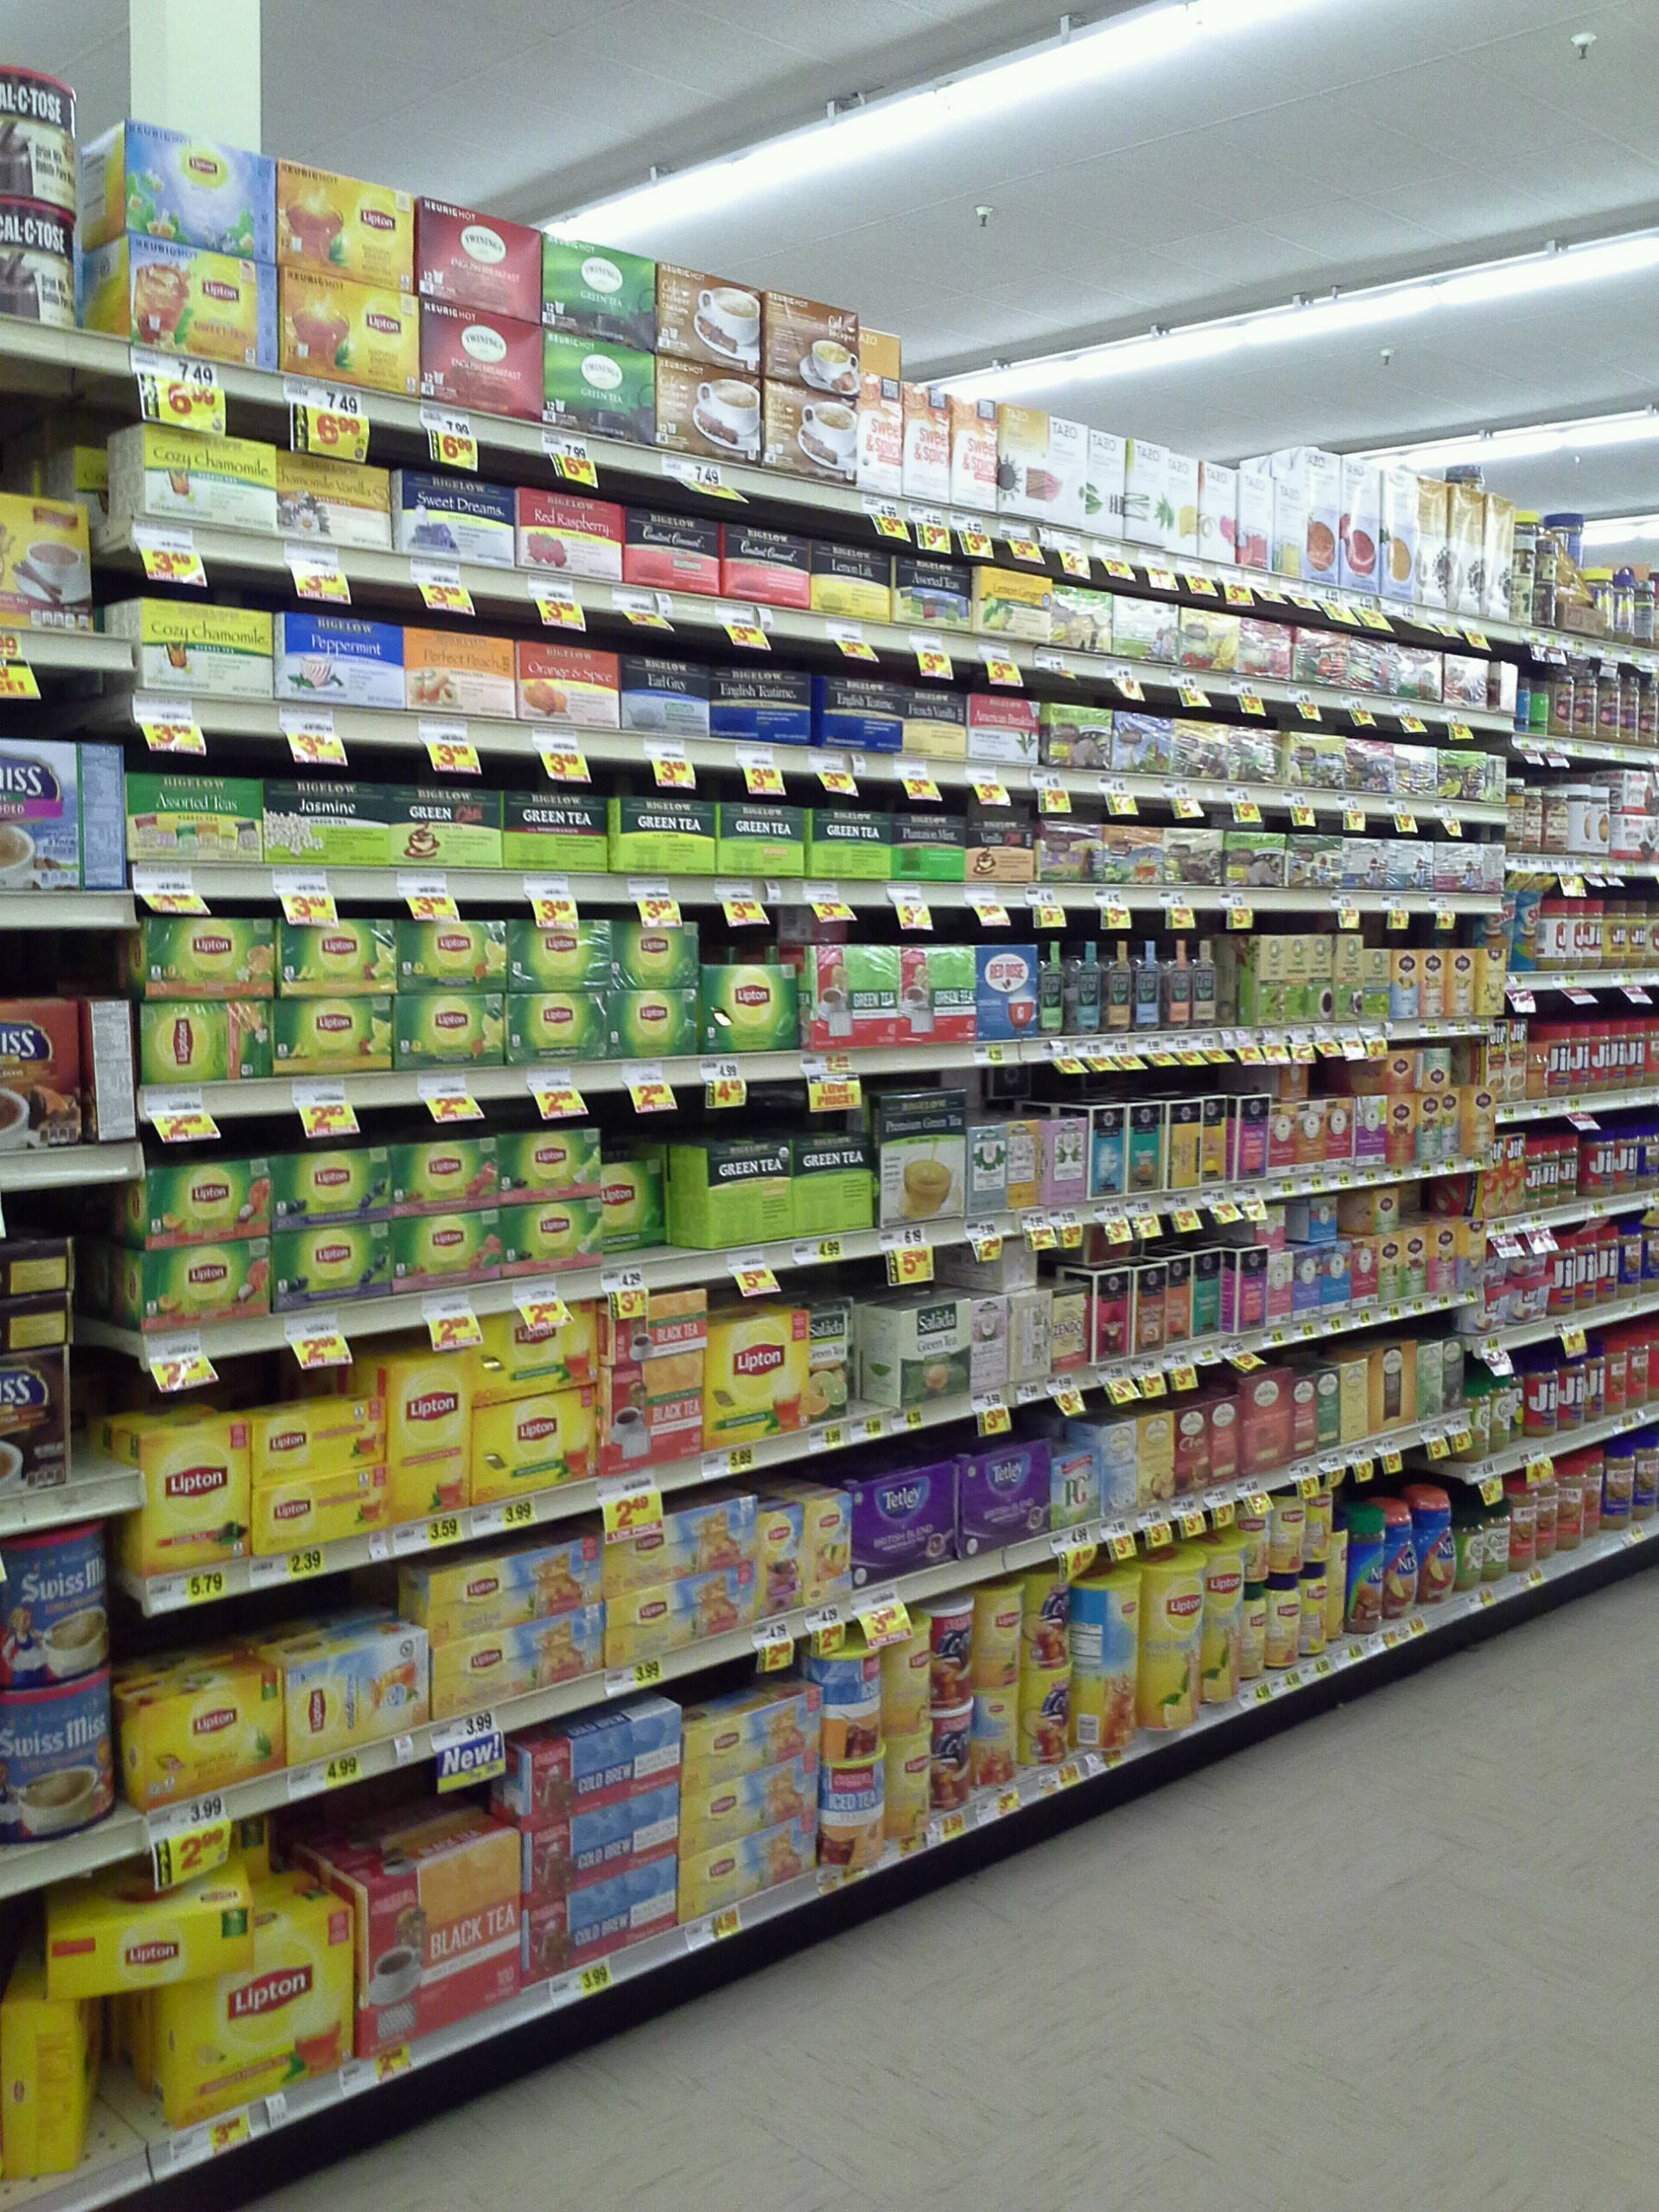product: (364, 1871, 519, 2017), (173, 1986, 350, 2094), (0, 740, 120, 890), (0, 1684, 106, 1836), (129, 125, 275, 232), (288, 1651, 422, 1764), (525, 1785, 680, 1879), (125, 254, 277, 348), (281, 162, 415, 268), (132, 1428, 242, 1557), (0, 1531, 108, 1662), (0, 1998, 73, 2184), (40, 1921, 260, 1982), (132, 1681, 282, 1770), (138, 423, 267, 524), (282, 284, 422, 374), (429, 1613, 605, 1683), (1140, 1548, 1204, 1738), (472, 1409, 591, 1512), (544, 233, 662, 336), (392, 1353, 465, 1515), (129, 773, 260, 864), (141, 916, 275, 1003), (141, 606, 272, 695), (396, 463, 511, 563), (422, 195, 540, 286), (714, 1320, 810, 1428), (429, 307, 540, 399), (406, 625, 514, 719), (606, 1562, 758, 1629), (662, 263, 760, 366), (960, 1442, 1046, 1559), (389, 780, 498, 871), (270, 782, 387, 866), (471, 1315, 594, 1393), (622, 496, 721, 590), (889, 1096, 958, 1228), (141, 1163, 270, 1235), (1086, 1576, 1138, 1749), (146, 1007, 267, 1082), (805, 944, 894, 1045), (284, 627, 401, 704), (394, 995, 511, 1071), (418, 1555, 608, 1602), (540, 359, 662, 432), (145, 1244, 272, 1312), (701, 1143, 793, 1235), (666, 373, 760, 463), (281, 921, 390, 998), (702, 968, 798, 1055), (610, 798, 714, 876), (856, 1479, 957, 1559), (532, 1897, 676, 1952), (274, 1240, 385, 1312), (392, 920, 504, 991), (254, 1486, 385, 1545), (256, 1420, 385, 1479), (795, 1139, 877, 1231), (769, 298, 863, 378), (603, 1366, 701, 1442), (277, 1155, 392, 1219), (277, 467, 392, 531), (687, 1836, 816, 1893), (899, 948, 972, 1049), (504, 1127, 599, 1204), (1284, 439, 1333, 589), (769, 395, 857, 477), (507, 801, 608, 873), (89, 995, 136, 1148), (507, 921, 610, 991), (887, 1303, 960, 1400), (812, 536, 890, 627), (504, 1211, 606, 1278), (528, 1735, 680, 1780), (279, 1010, 385, 1075), (525, 650, 624, 718), (396, 1136, 495, 1204), (514, 498, 615, 564), (389, 1224, 500, 1284), (615, 1515, 755, 1561), (687, 1717, 821, 1764), (819, 676, 899, 754), (950, 388, 999, 516), (518, 998, 613, 1062), (629, 651, 708, 730), (809, 808, 890, 883), (613, 991, 701, 1061), (978, 944, 1039, 1042), (1208, 1533, 1243, 1702), (1377, 456, 1415, 606), (608, 920, 697, 984), (718, 810, 803, 876), (967, 693, 1046, 763), (835, 1637, 885, 1745), (978, 571, 1054, 641), (714, 674, 810, 730), (1338, 456, 1377, 596), (687, 1785, 819, 1825), (612, 1167, 678, 1245), (1000, 413, 1046, 524), (727, 535, 807, 596), (835, 1761, 884, 1858), (603, 1298, 708, 1343), (1126, 430, 1166, 547), (1481, 495, 1516, 629), (978, 1583, 1026, 1679), (967, 1301, 1014, 1400), (762, 1501, 805, 1608), (892, 1620, 934, 1730), (896, 815, 964, 880), (892, 573, 976, 625), (985, 1681, 1025, 1789), (1352, 1508, 1387, 1632), (817, 1306, 852, 1428), (1047, 409, 1082, 531), (1248, 1371, 1290, 1472), (1032, 822, 1098, 885), (906, 392, 945, 500), (1028, 1674, 1072, 1768), (870, 369, 903, 493), (1420, 469, 1448, 613), (1452, 467, 1478, 618), (1122, 1103, 1166, 1193), (1427, 1491, 1462, 1604), (1065, 934, 1101, 1040), (1047, 705, 1117, 761), (1117, 599, 1176, 664), (812, 1501, 850, 1601), (1089, 432, 1126, 535), (1391, 1498, 1422, 1616), (1373, 1346, 1419, 1426), (903, 697, 965, 754), (1295, 625, 1349, 691), (1105, 932, 1138, 1038), (1237, 469, 1270, 575), (1047, 1116, 1086, 1207), (1119, 707, 1169, 775), (967, 1125, 1007, 1211), (1039, 1569, 1073, 1667), (964, 827, 1028, 880), (1431, 848, 1502, 895), (1051, 1447, 1098, 1519), (1244, 615, 1295, 681), (1058, 1282, 1094, 1372), (899, 1738, 936, 1829), (1164, 826, 1220, 885), (1169, 1096, 1202, 1195), (1236, 1092, 1270, 1186), (1237, 723, 1284, 792), (1208, 456, 1236, 573), (1227, 1249, 1265, 1332), (1291, 733, 1351, 787), (1061, 585, 1114, 646), (1225, 834, 1286, 887), (1136, 1414, 1173, 1501), (945, 1606, 974, 1712), (1169, 723, 1230, 773), (1101, 833, 1162, 883), (1103, 1418, 1134, 1515), (1136, 930, 1166, 1031), (1169, 455, 1199, 554), (1183, 617, 1239, 669), (1288, 831, 1340, 887), (1011, 1118, 1042, 1211), (950, 1714, 978, 1817), (1272, 1581, 1302, 1677), (1018, 1291, 1051, 1376), (1093, 1106, 1121, 1207), (1335, 934, 1364, 1028), (1291, 1369, 1323, 1456), (1288, 930, 1316, 1028), (1391, 948, 1427, 1021), (1107, 1270, 1134, 1366), (1039, 934, 1063, 1042), (1166, 1256, 1194, 1350), (1255, 934, 1283, 1026), (1206, 1092, 1232, 1188), (1194, 1251, 1223, 1332), (1215, 1397, 1244, 1479), (1352, 643, 1399, 693), (1434, 752, 1486, 798), (1136, 1264, 1162, 1352), (1403, 646, 1441, 705), (1356, 1097, 1389, 1163), (1387, 1096, 1419, 1165), (1394, 744, 1434, 798), (1445, 664, 1493, 707), (1345, 845, 1394, 888), (1089, 1228, 1147, 1264), (1169, 939, 1192, 1031), (1194, 941, 1216, 1031), (1316, 930, 1337, 1028), (1453, 944, 1481, 1017), (1279, 1489, 1303, 1573), (1180, 1406, 1202, 1494), (1460, 1224, 1486, 1301), (1366, 1186, 1405, 1237), (1347, 1355, 1370, 1440), (1298, 1251, 1323, 1329), (997, 1237, 1039, 1282), (1420, 1338, 1443, 1421), (1302, 1101, 1330, 1167), (1309, 1562, 1328, 1658), (1352, 747, 1394, 791), (1359, 1242, 1384, 1315), (1248, 1587, 1267, 1679), (1471, 1087, 1497, 1153), (1438, 1226, 1459, 1306), (1307, 1197, 1347, 1238), (1312, 1484, 1333, 1564), (1326, 1362, 1345, 1447), (1326, 1247, 1351, 1313), (1248, 1508, 1272, 1575), (1445, 1332, 1466, 1409), (1427, 948, 1450, 1017), (1276, 1103, 1300, 1167), (1366, 942, 1387, 1017), (1394, 843, 1427, 890), (1272, 1254, 1293, 1325), (1413, 1231, 1432, 1308), (1495, 658, 1521, 712), (1387, 1244, 1406, 1317), (1333, 1099, 1354, 1165), (1420, 1099, 1441, 1165), (1445, 1097, 1467, 1157), (1492, 751, 1514, 810), (1485, 944, 1504, 1014), (1283, 1059, 1314, 1096), (1424, 1050, 1452, 1090), (1384, 1049, 1412, 1089), (1258, 1207, 1288, 1244)
